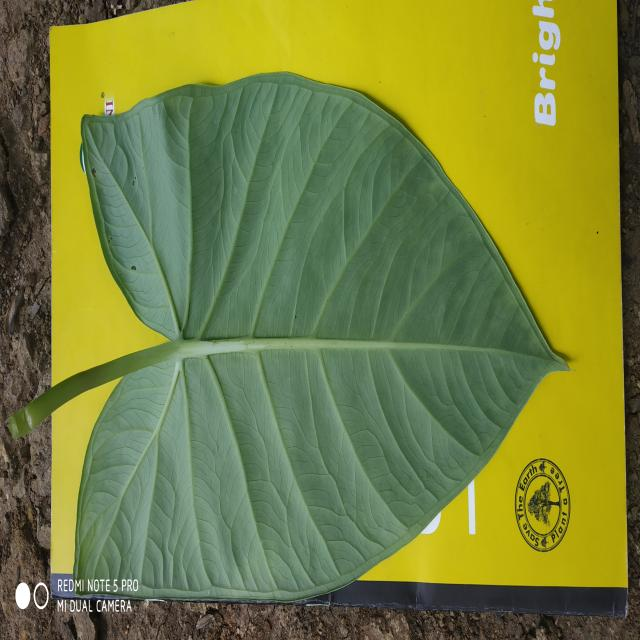taro: (74, 73, 566, 602)
